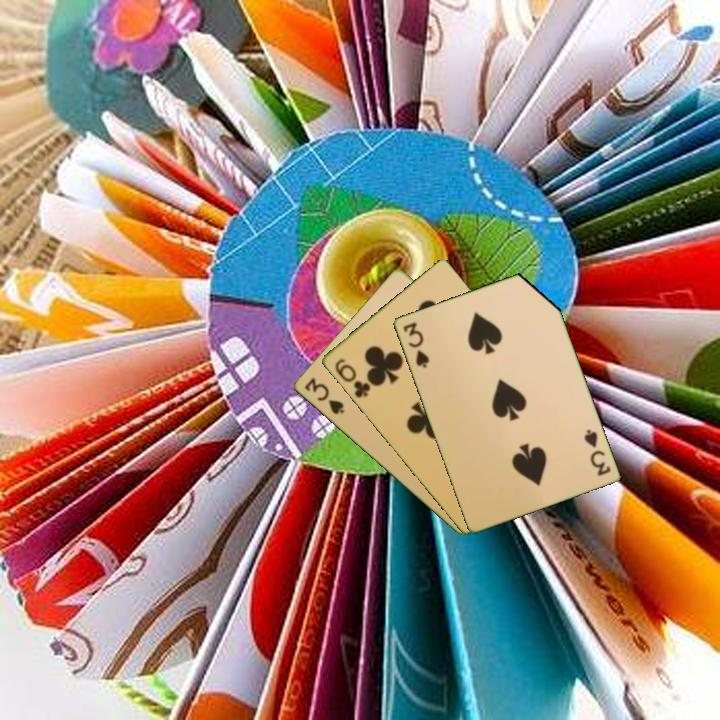3s: (300, 374, 347, 417), (399, 318, 432, 371), (580, 426, 613, 479)
6c: (331, 355, 373, 401)
